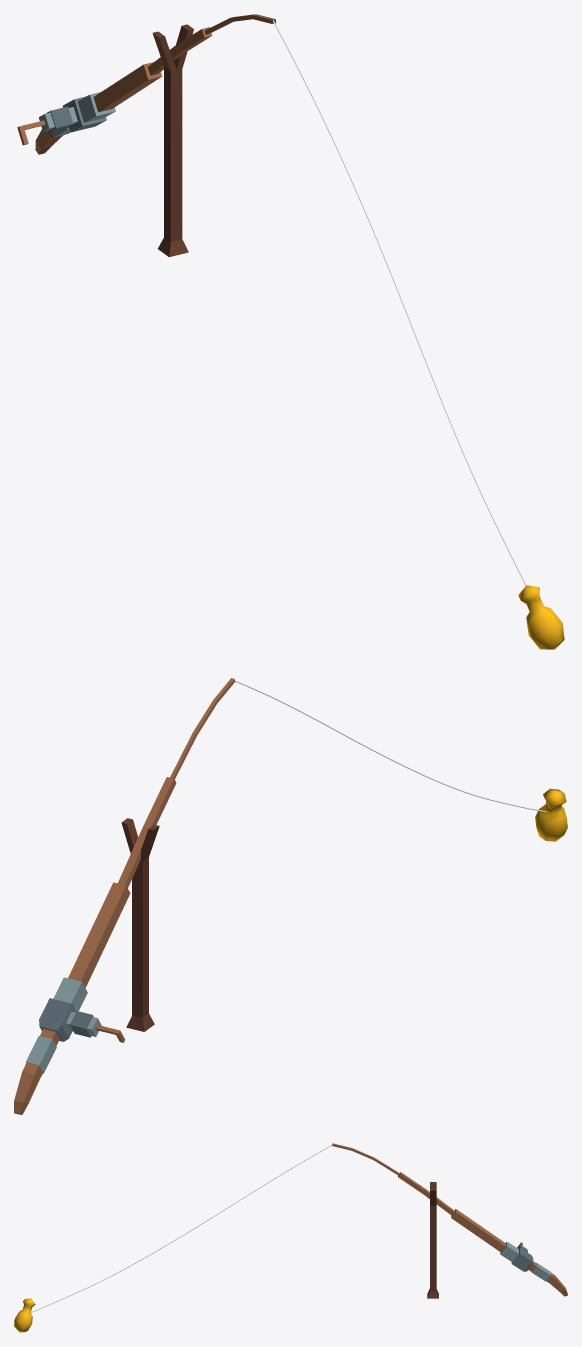
Rendered from fishRod1.fbx.
The picture shows the model from 3 angles, top to bottom: view 1: azimuth 30°, elevation 25°; view 2: azimuth 150°, elevation 25°; view 3: azimuth 270°, elevation 25°; orthographic projection. The views are drawn at different scales.
Parts seen in each view (by area): view 1: Cube.001, Cube, Cube.002, NurbsPath; view 2: Cube.001, Cube, Cube.002, NurbsPath; view 3: Cube.001, Cube, Cube.002, NurbsPath.
Boxes of the visible parts, bbox=[...] form: Cube.001: bbox=[17, 14, 276, 154]; Cube: bbox=[152, 24, 193, 257]; Cube.002: bbox=[518, 585, 564, 649]; NurbsPath: bbox=[272, 20, 526, 585]; Cube.001: bbox=[14, 678, 234, 1114]; Cube: bbox=[121, 818, 159, 1031]; Cube.002: bbox=[535, 788, 567, 841]; NurbsPath: bbox=[235, 680, 546, 812]; Cube.001: bbox=[332, 1143, 567, 1296]; Cube: bbox=[427, 1182, 438, 1298]; Cube.002: bbox=[14, 1298, 35, 1332]; NurbsPath: bbox=[30, 1144, 332, 1312].
Size of the model in its own units: 143 by 645 by 1646.
1 material, 1 textured.
